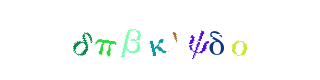9: (158, 0, 238, 80)
B: (113, 0, 193, 80)
C: (164, 0, 244, 80)
D: (55, 0, 135, 80), (176, 0, 256, 80)
K: (120, 0, 200, 80)
O: (186, 0, 266, 80)
P: (83, 0, 163, 80)
